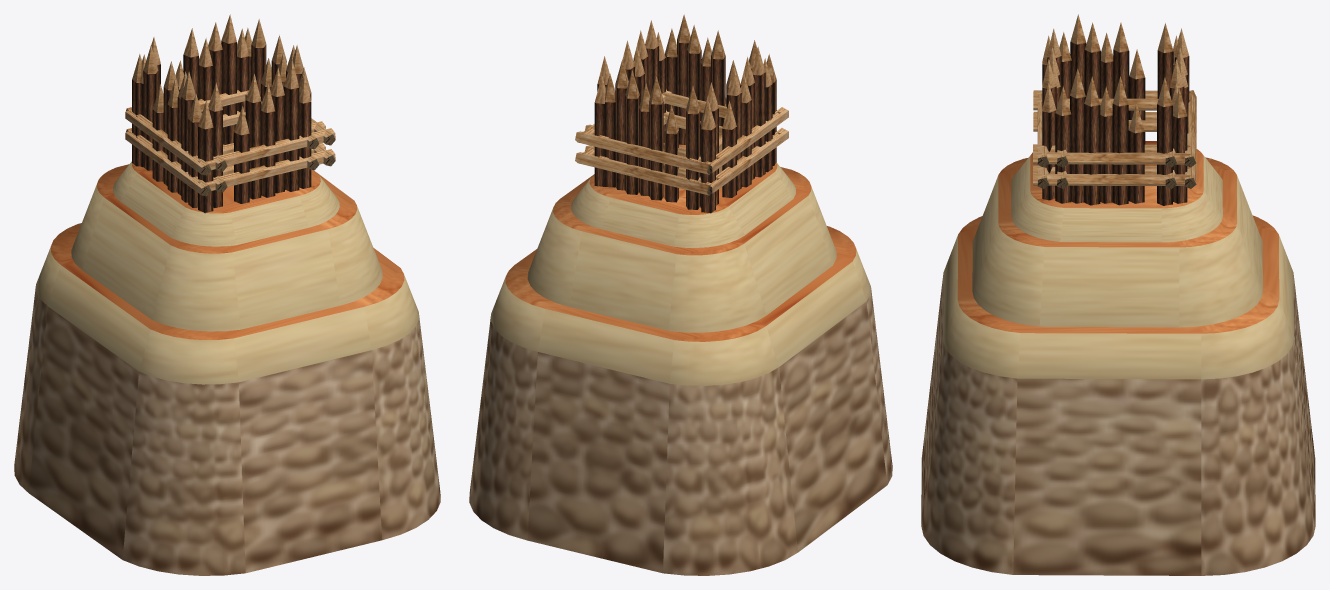
Rendered from wall_tower.dae.
3 renders of one model, left to right at view 1: azimuth 30°, elevation 25°; view 2: azimuth 150°, elevation 25°; view 3: azimuth 270°, elevation 25°, orthographic. The views are drawn at different scales.
Visible parts, largest first — view 1: wall-towe; view 2: wall-towe; view 3: wall-towe.
Boxes of the visible parts, x1,y1,x2,y2 form: wall-towe: (14,14,440,575); wall-towe: (469,14,892,575); wall-towe: (921,14,1315,575).
Bounding box in the file's own units: 14.05 × 14.76 × 18.71.
1 material, 1 textured.
